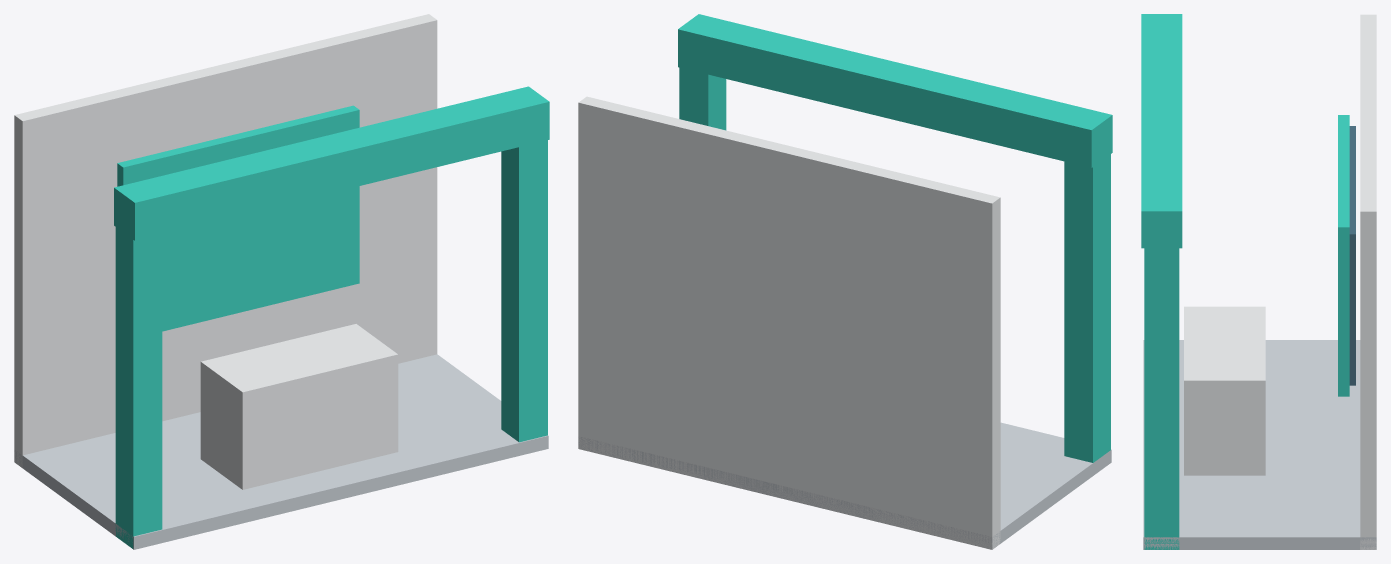
3 renders of one model, left to right at view 1: azimuth 30°, elevation 25°; view 2: azimuth 150°, elevation 25°; view 3: azimuth 270°, elevation 25°, orthographic. The views are drawn at different scales.
Visible parts, largest first — view 1: Exhibition Booth Concept; view 2: Exhibition Booth Concept; view 3: Exhibition Booth Concept.
Boxes of the visible parts, bbox=[...] form: Exhibition Booth Concept: bbox=[14, 14, 549, 549]; Exhibition Booth Concept: bbox=[578, 14, 1112, 549]; Exhibition Booth Concept: bbox=[1141, 14, 1376, 549].
Size of the model in its own units: 4 by 3.2 by 2.01.
